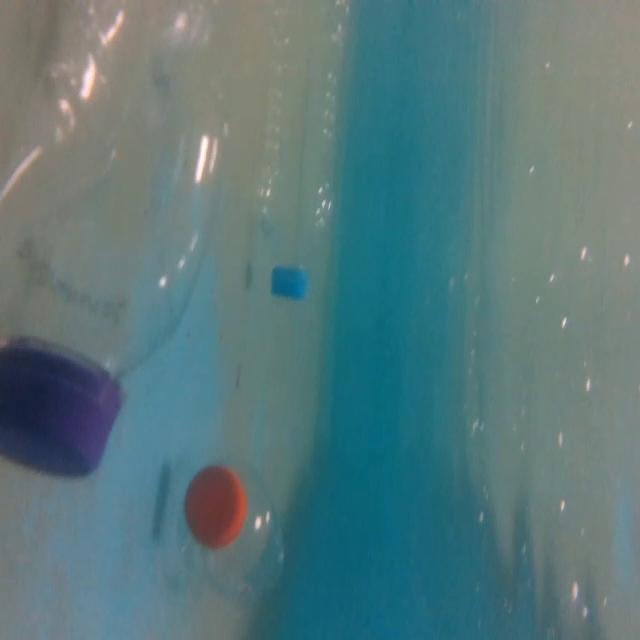plastic bottle: (0, 0, 234, 480), (252, 0, 359, 312), (176, 451, 302, 607)
